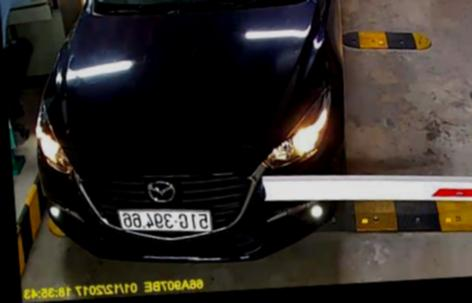License_Plate: (117, 200, 217, 238)
